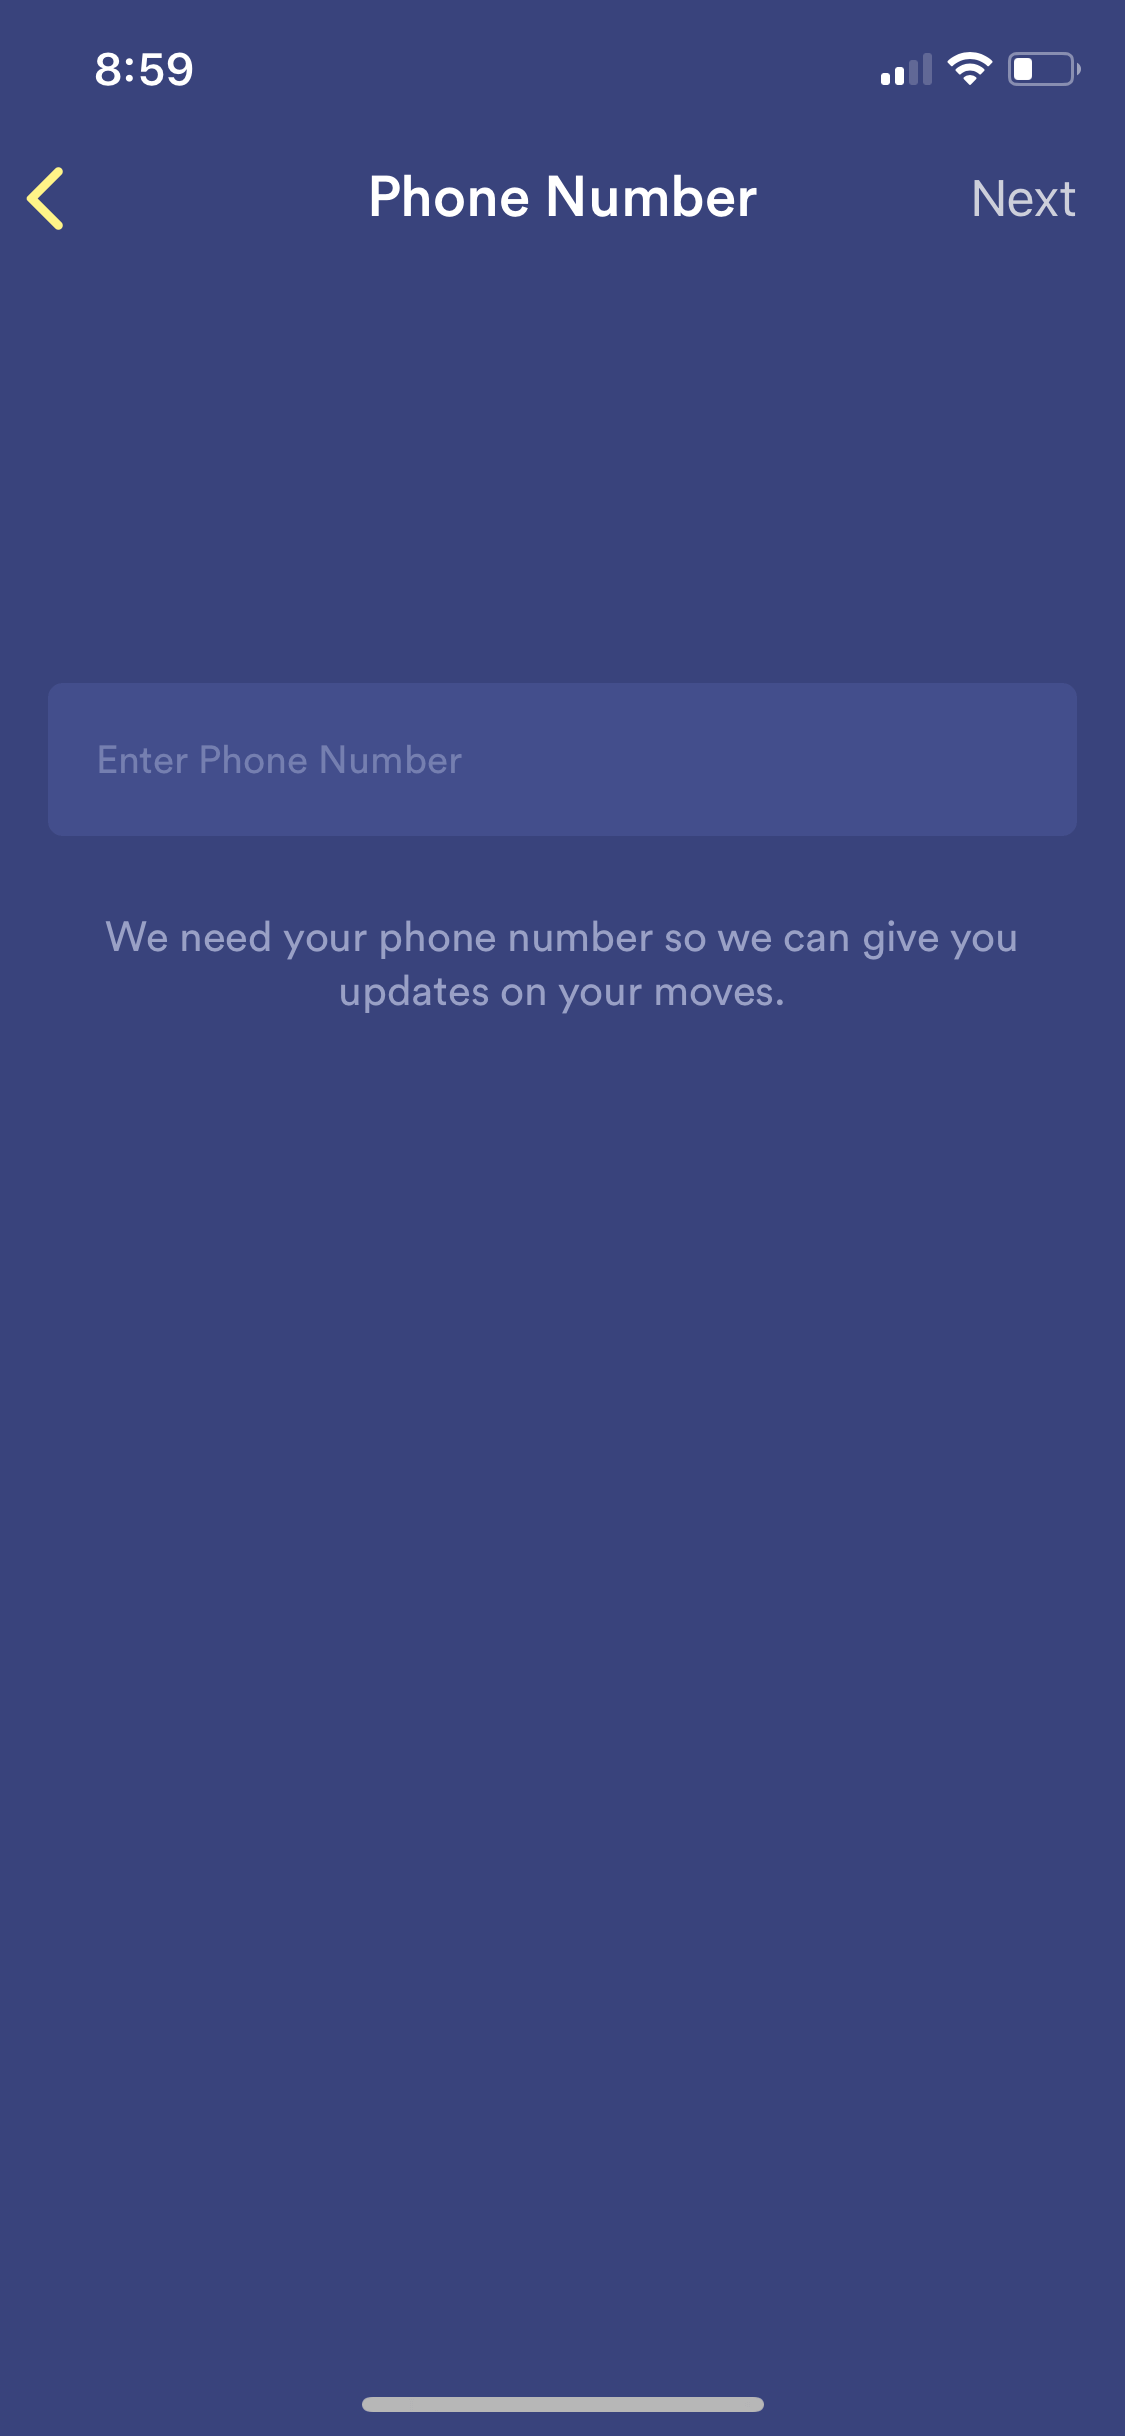Buttons: (901, 140, 1105, 253), (2, 138, 106, 253)
Text Fields: (34, 651, 1089, 856)
